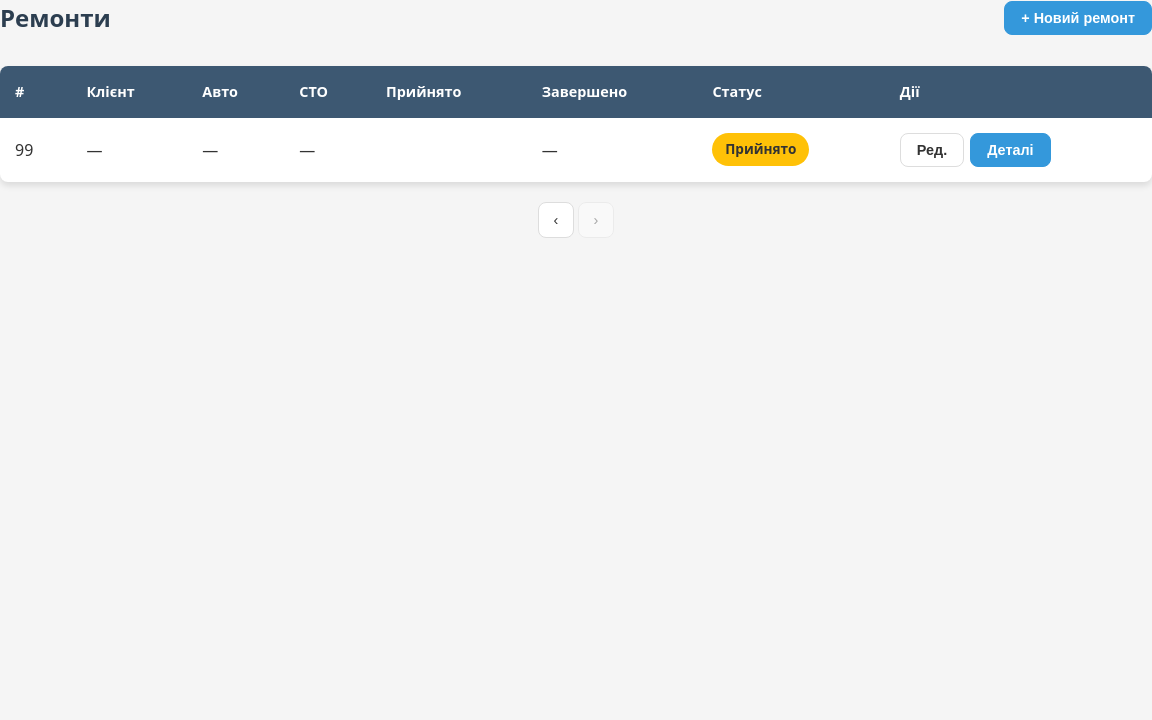
it: RepairsPage Component › відкриває модальне вікно редагування при кліку на "Ред."
# Знаходимо і клікаємо кнопку "Ред."
Click the button "Ред." at {"x": 932, "y": 150}, box top-left (900, 133), bottom-right (964, 167)
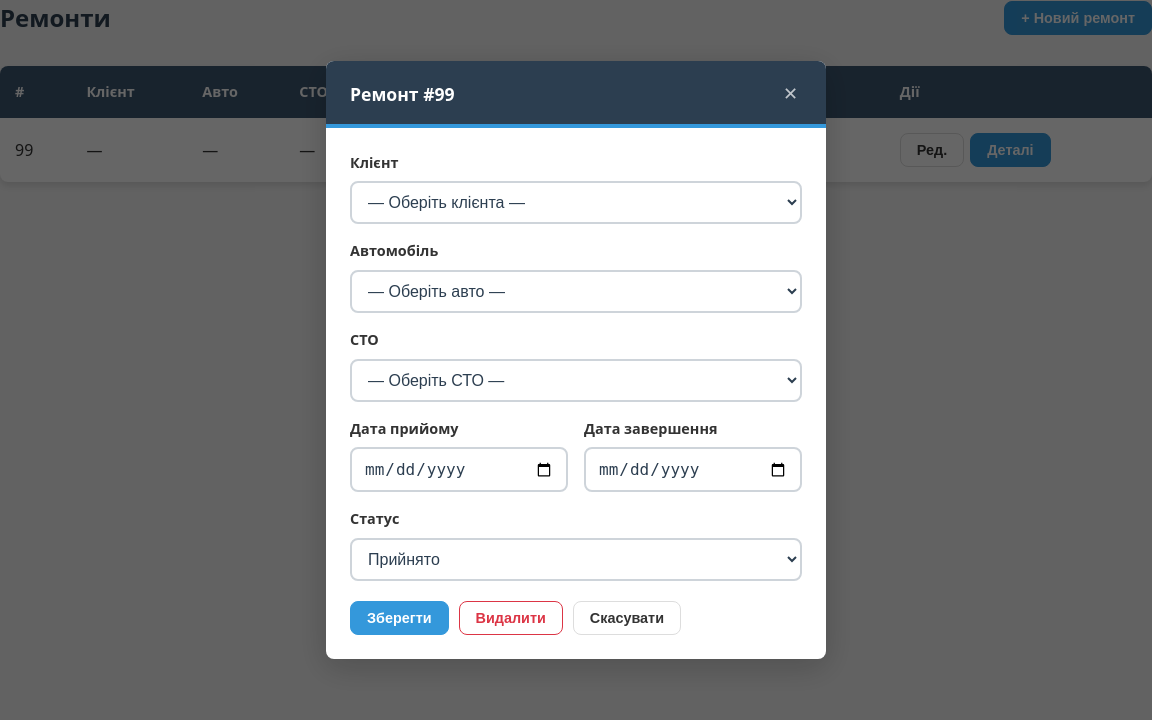
Check: the heading "Ремонт #99" is shown, box top-left (350, 81), bottom-right (455, 108)
